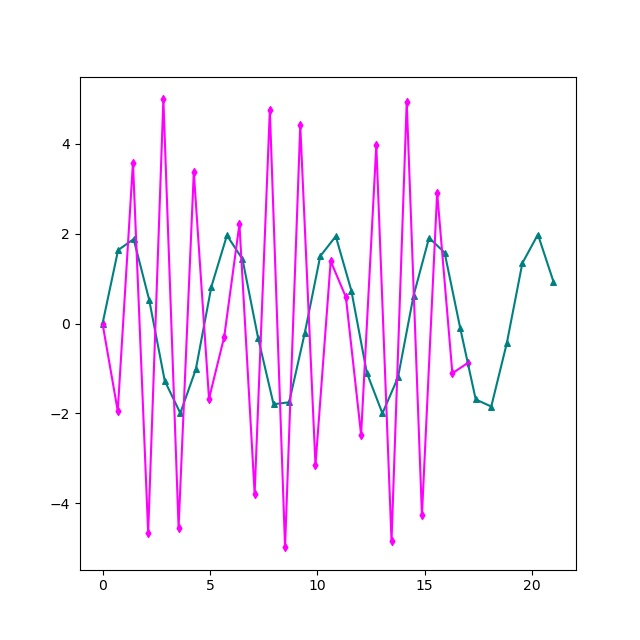thin_diamond: (99, 320, 108, 329), (114, 407, 123, 416), (129, 159, 138, 168), (144, 529, 153, 538), (159, 95, 168, 104), (175, 524, 184, 533), (190, 168, 199, 177), (205, 395, 214, 404), (220, 333, 229, 342), (235, 220, 244, 229), (251, 490, 260, 499), (266, 106, 275, 115), (281, 543, 290, 552), (296, 121, 305, 130), (311, 461, 320, 470), (327, 257, 336, 266), (342, 293, 351, 302), (357, 431, 366, 440), (372, 141, 381, 150), (388, 537, 397, 546), (403, 98, 412, 107), (418, 511, 427, 520), (433, 189, 442, 198), (448, 369, 457, 378), (464, 359, 473, 368)
triangle_up: (99, 320, 108, 329), (114, 246, 123, 255), (130, 235, 139, 244), (145, 296, 154, 305), (161, 377, 170, 386), (176, 409, 185, 418), (192, 365, 201, 374), (207, 283, 216, 292), (223, 231, 232, 240), (238, 255, 247, 264), (254, 334, 263, 343), (270, 400, 279, 409), (285, 398, 294, 407), (301, 329, 310, 338), (316, 252, 325, 261), (332, 232, 341, 241), (347, 287, 356, 296), (363, 369, 372, 378), (378, 409, 387, 418), (394, 373, 403, 382), (410, 292, 419, 301), (425, 234, 434, 243), (441, 249, 450, 258), (456, 324, 465, 333), (472, 395, 481, 404), (487, 403, 496, 412), (503, 339, 512, 348), (518, 259, 527, 268), (534, 231, 543, 240), (549, 278, 558, 287)
